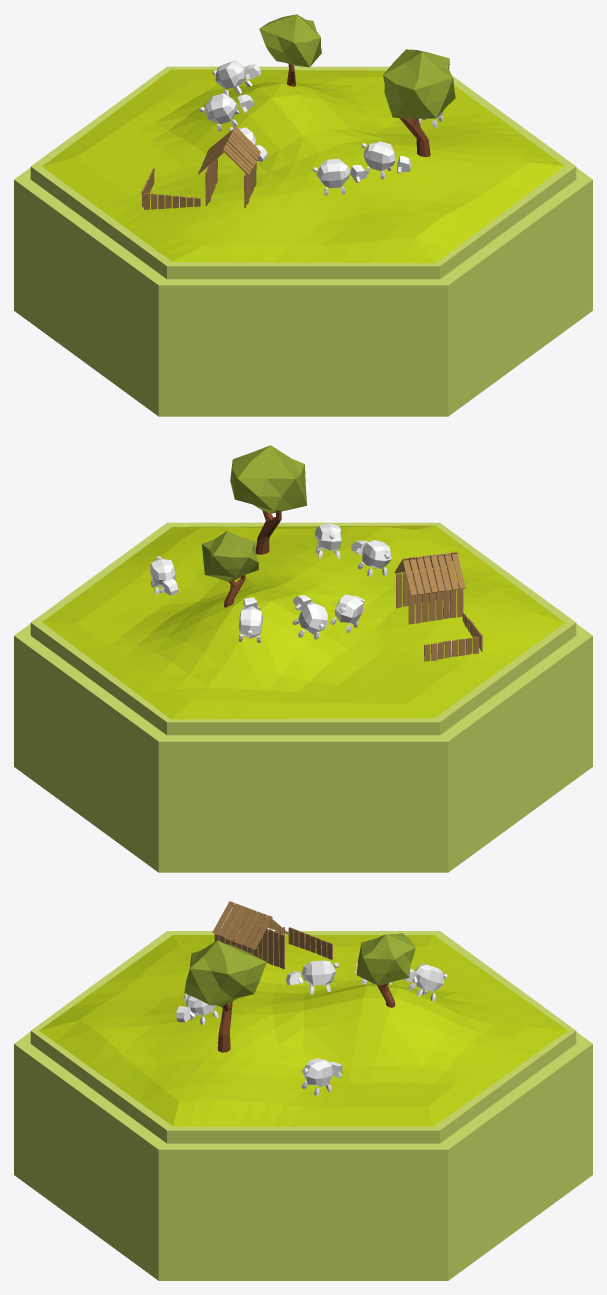
Rendered from 014-catan_12660_autosave.glb.
3 views of the same model, one above another, from view 1: azimuth 30°, elevation 25°; view 2: azimuth 150°, elevation 25°; view 3: azimuth 270°, elevation 25° (orthographic).
Parts seen in each view (by area): view 1: Cylinder.036, Plane.069, Plane.070, Cube.074, Plane.071, Cube.067, Cube.068, Cube.069, Cube.065; view 2: Cylinder.036, Plane.069, Cube.074, Plane.070, Plane.071, Cube.067, Cube.068, Cube.070, Cube.065, Cube.066, Cube.069; view 3: Cylinder.036, Plane.069, Plane.070, Cube.074, Plane.071, Cube.066, Cube.070, Cube.065, Cube.069.
Boxes of the visible parts, box(x1,y1,x2,y2) form: Cylinder.036: box(14, 66, 592, 416); Plane.069: box(42, 69, 564, 263); Plane.070: box(383, 49, 455, 157); Cube.074: box(141, 125, 260, 209); Plane.071: box(259, 14, 321, 86); Cube.067: box(199, 93, 254, 131); Cube.068: box(312, 158, 366, 195); Cube.069: box(361, 141, 410, 179); Cube.065: box(212, 60, 261, 96); Cylinder.036: box(14, 522, 592, 872); Plane.069: box(42, 525, 564, 719); Cube.074: box(394, 551, 482, 661); Plane.070: box(230, 445, 306, 554); Plane.071: box(202, 531, 258, 607); Cube.067: box(292, 595, 327, 639); Cube.068: box(351, 540, 391, 576); Cube.070: box(150, 556, 178, 595); Cube.065: box(238, 597, 262, 642); Cube.066: box(330, 594, 364, 633); Cube.069: box(315, 523, 341, 558); Cylinder.036: box(14, 931, 592, 1280); Plane.069: box(39, 935, 567, 1126); Plane.070: box(184, 940, 266, 1052); Cube.074: box(212, 901, 332, 969); Plane.071: box(356, 933, 415, 1007); Cube.066: box(286, 960, 338, 994); Cube.070: box(301, 1058, 342, 1095); Cube.065: box(403, 963, 447, 1001); Cube.069: box(176, 994, 218, 1024).
Size of what is drawn, in the model's own units: 1.73 by 1.04 by 2.
